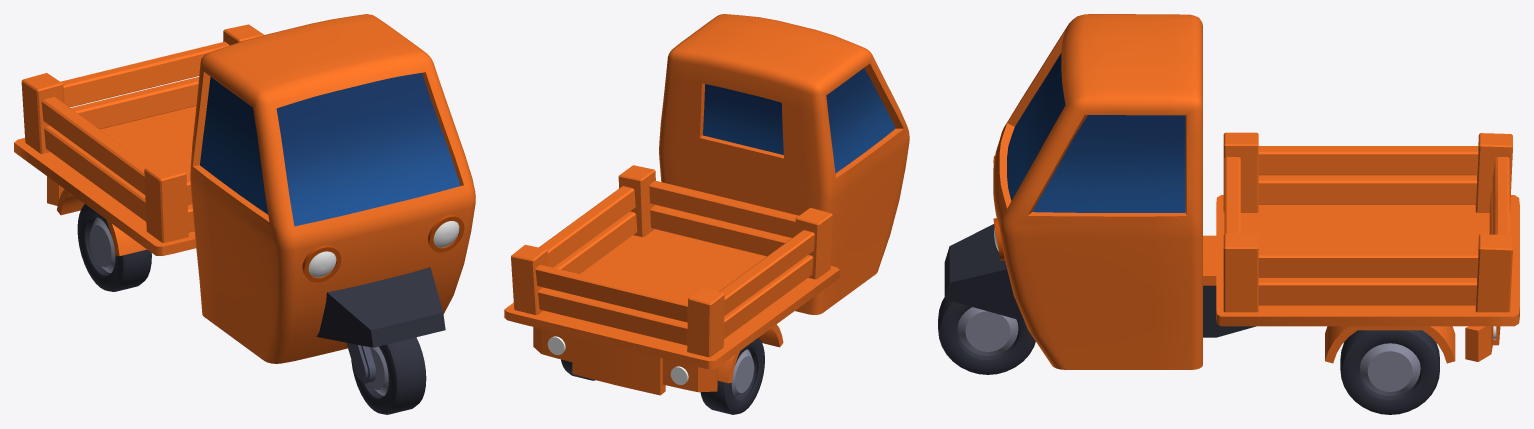
Rendered from Car_4.fbx.
The picture shows the model from 3 angles, left to right: view 1: azimuth 30°, elevation 25°; view 2: azimuth 150°, elevation 25°; view 3: azimuth 270°, elevation 25°; orthographic projection. The views are drawn at different scales.
Parts seen in each view (by area): view 1: Cube.056; view 2: Cube.056; view 3: Cube.056.
Part boxes in pixels (box(x1,y1,x2,y2)): Cube.056: box(14, 14, 475, 414); Cube.056: box(504, 14, 909, 414); Cube.056: box(938, 14, 1519, 414).
Size of the model in its own units: 496 by 611 by 1004.
1 material, 1 textured.
